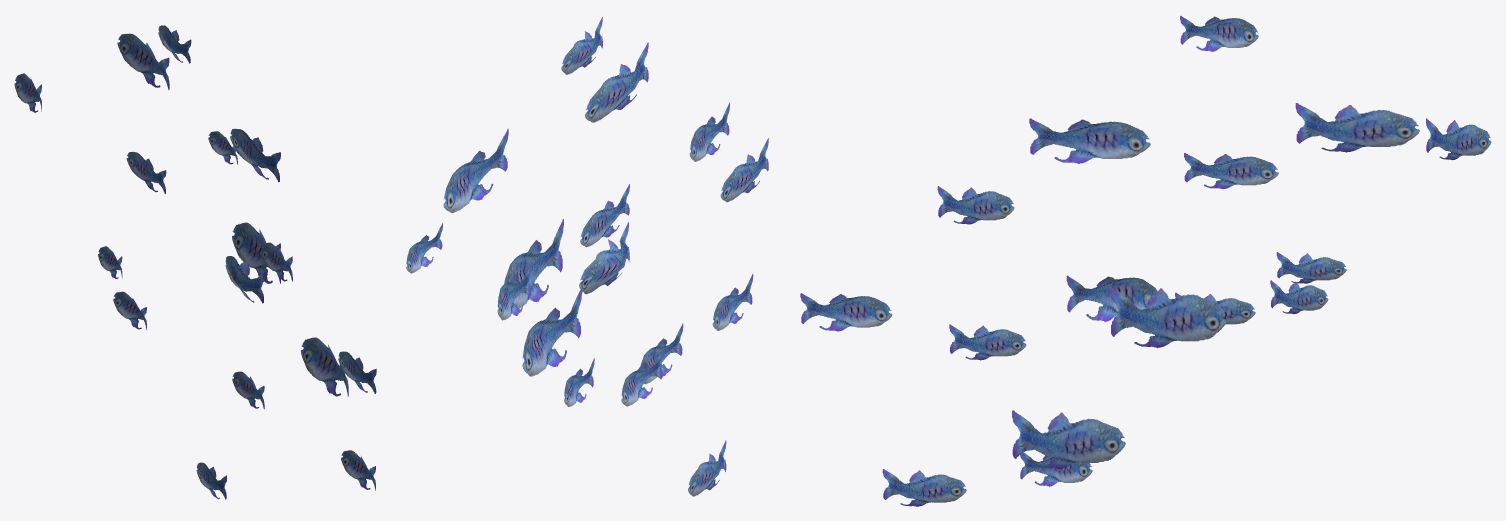
The model's file is MINOWS_BIND.obj.
The picture shows the model from 3 angles, left to right: view 1: azimuth 30°, elevation 25°; view 2: azimuth 150°, elevation 25°; view 3: azimuth 270°, elevation 25°; orthographic projection. The views are drawn at different scales.
Visible parts, largest first — view 1: minnows; view 2: minnows; view 3: minnows.
Boxes of the visible parts, left/top/right/bottom form: minnows: left=14, top=25, right=376, bottom=499; minnows: left=406, top=17, right=768, bottom=496; minnows: left=800, top=16, right=1491, bottom=506.
Size of what is drawn, in the model's own units: 17 by 46.38 by 59.33.
